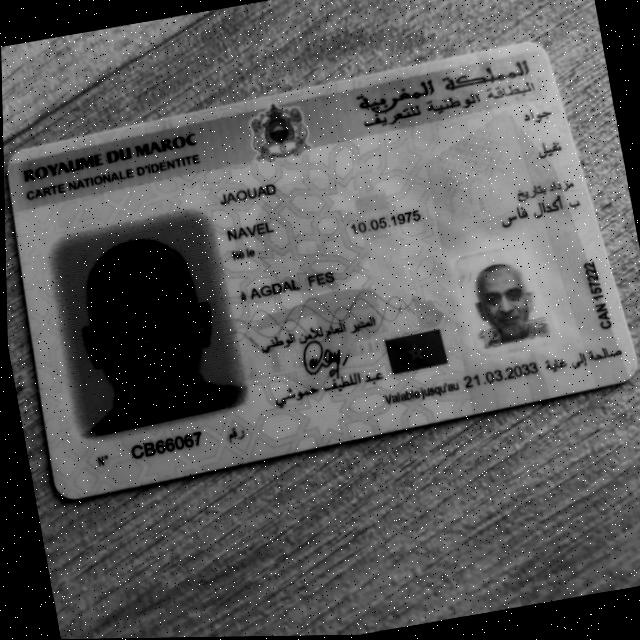card: (10, 43, 635, 498)
